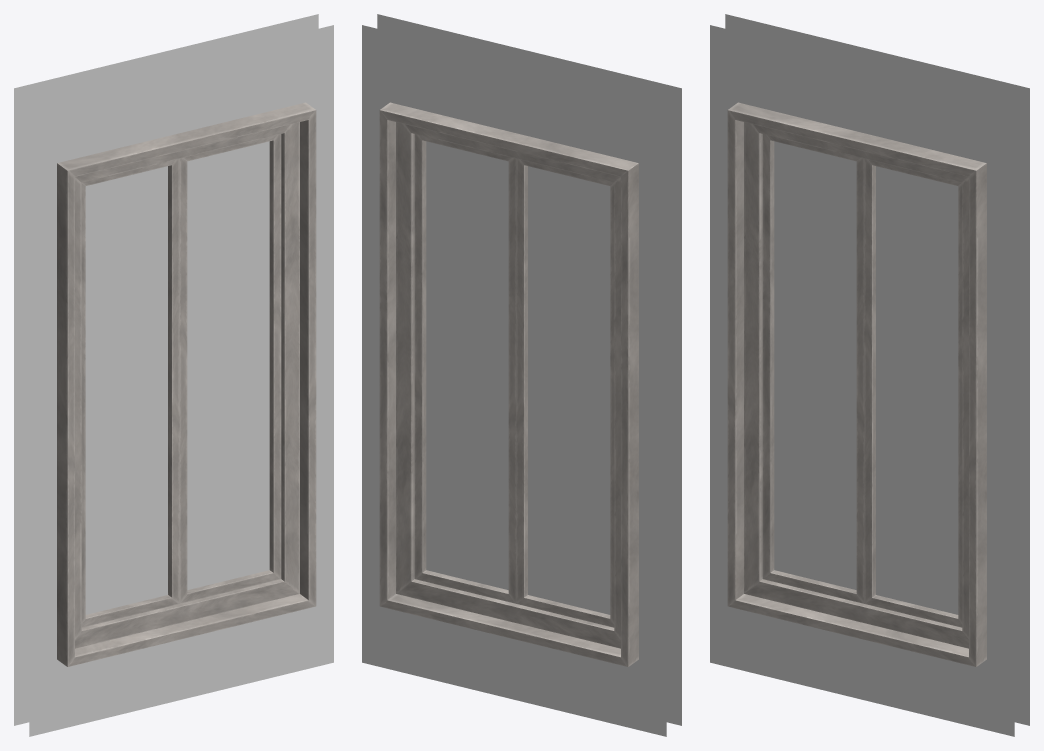
The model's file is Wall_Window_N.fbx.
3 views of the same model, side by side, from view 1: azimuth 30°, elevation 25°; view 2: azimuth 150°, elevation 25°; view 3: azimuth 330°, elevation 25° (orthographic).
Visible parts, largest first — view 1: Wall_Window_N; view 2: Wall_Window_N; view 3: Wall_Window_N.
Part boxes in pixels (x1,y1,x2,y2): Wall_Window_N: (14,14,333,736); Wall_Window_N: (362,14,681,736); Wall_Window_N: (710,14,1029,736).
Bounding box in the file's own units: 3 × 0.6115 × 6.
